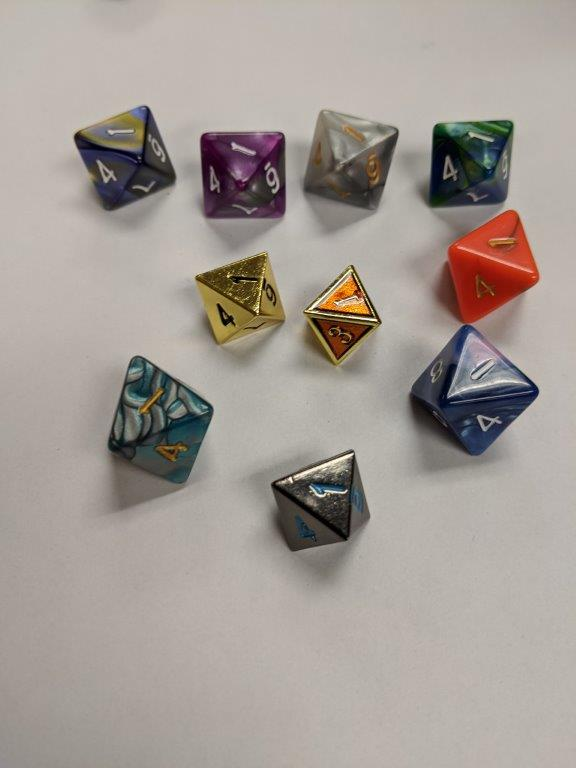d8-1: (409, 324, 539, 456), (105, 354, 214, 488), (73, 105, 179, 213), (442, 208, 542, 321), (302, 107, 401, 216), (271, 448, 374, 549), (194, 248, 285, 348), (199, 131, 288, 223), (304, 266, 382, 366), (429, 117, 511, 206)
